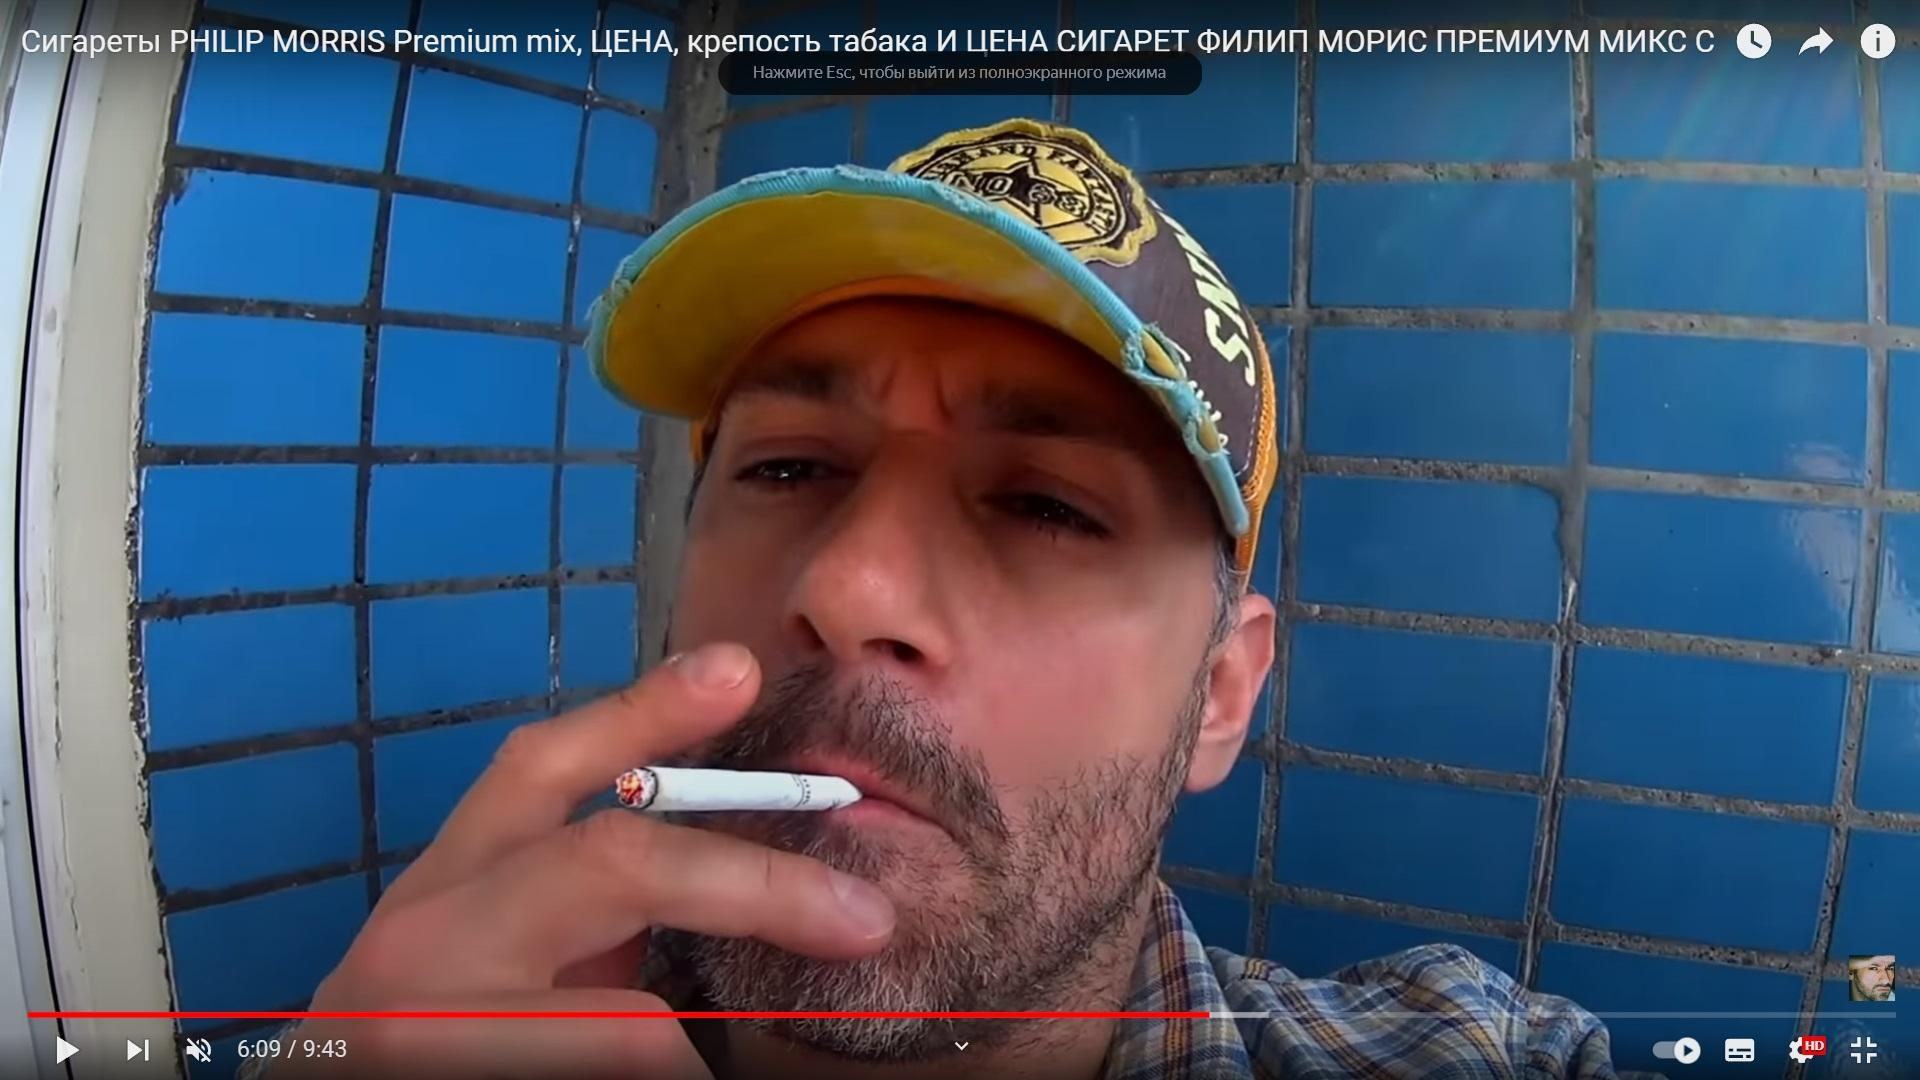cigarette: (615, 769, 858, 814)
